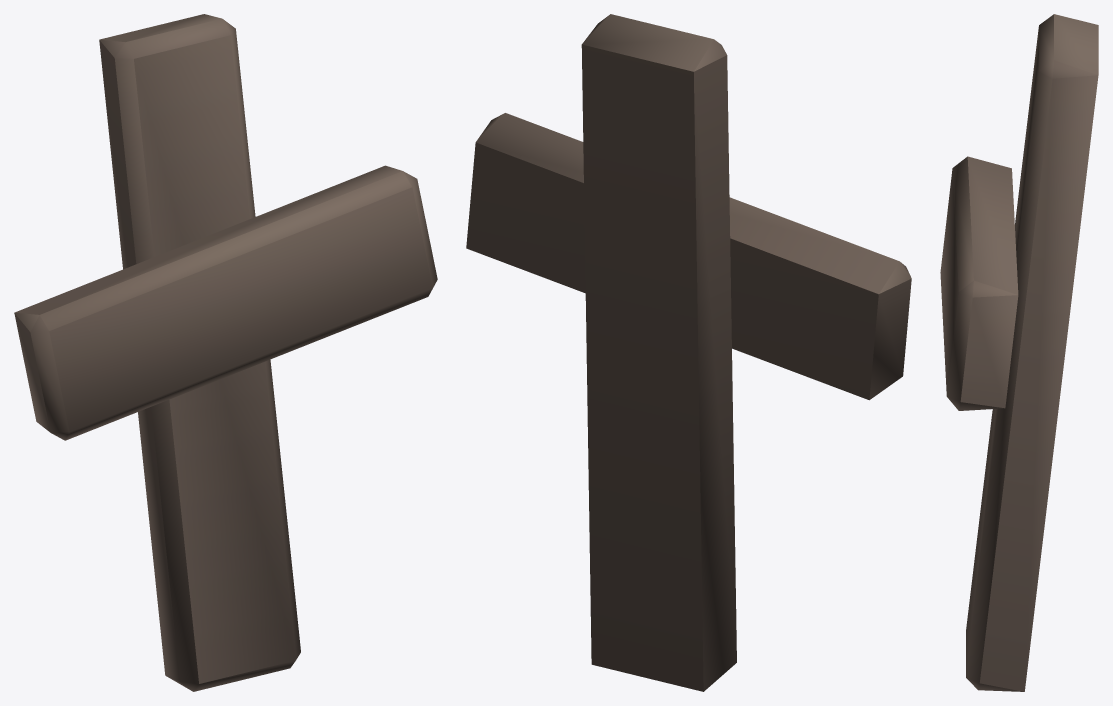
The model's file is gravemarker_A.obj.
3 renders of one model, left to right at view 1: azimuth 30°, elevation 25°; view 2: azimuth 150°, elevation 25°; view 3: azimuth 270°, elevation 25°, orthographic. The views are drawn at different scales.
Parts seen in each view (by area): view 1: gravemarker_A_Cube.122; view 2: gravemarker_A_Cube.122; view 3: gravemarker_A_Cube.122.
Part boxes in pixels (x1=…): gravemarker_A_Cube.122: x1=14, y1=14, x2=437, y2=691; gravemarker_A_Cube.122: x1=466, y1=14, x2=911, y2=691; gravemarker_A_Cube.122: x1=940, y1=14, x2=1098, y2=691.
Bounding box in the file's own units: 0.806 × 1.2 × 0.2782.
1 material, 1 textured.
